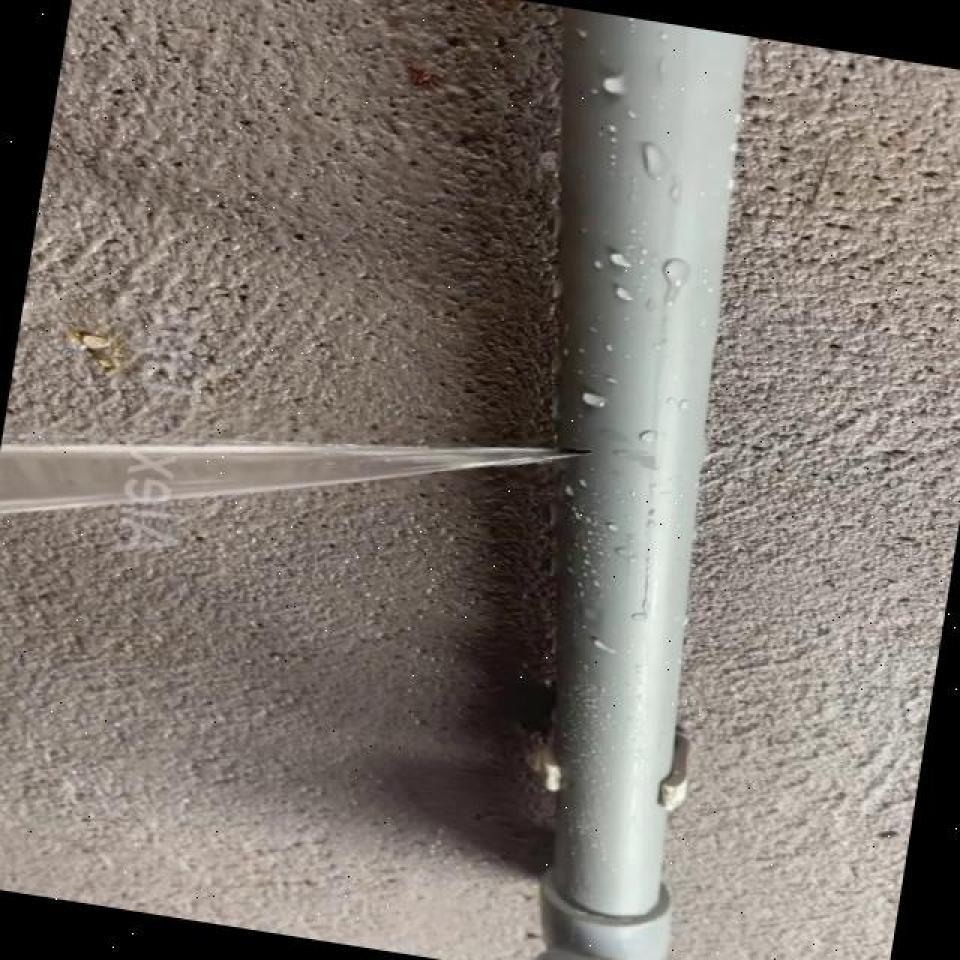pipe burst: (0, 437, 592, 520)
